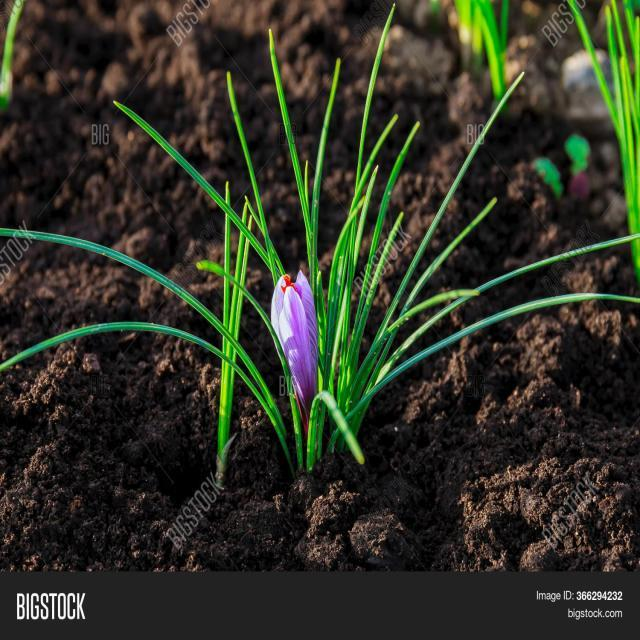Flower: (266, 272, 330, 406)
